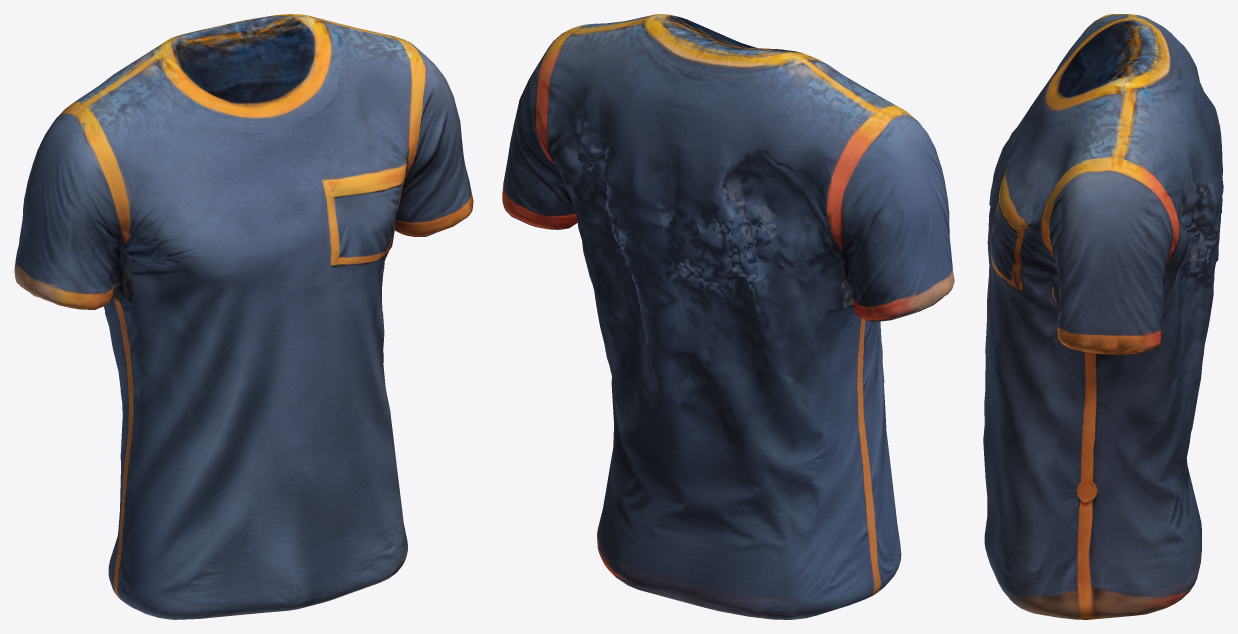
The picture shows the model from 3 angles, left to right: view 1: azimuth 30°, elevation 25°; view 2: azimuth 150°, elevation 25°; view 3: azimuth 270°, elevation 25°; orthographic projection. The views are drawn at different scales.
Size of the model in its own units: 0.9975 by 1.2 by 0.4963.
Materials: 1 (1 with a texture image).
